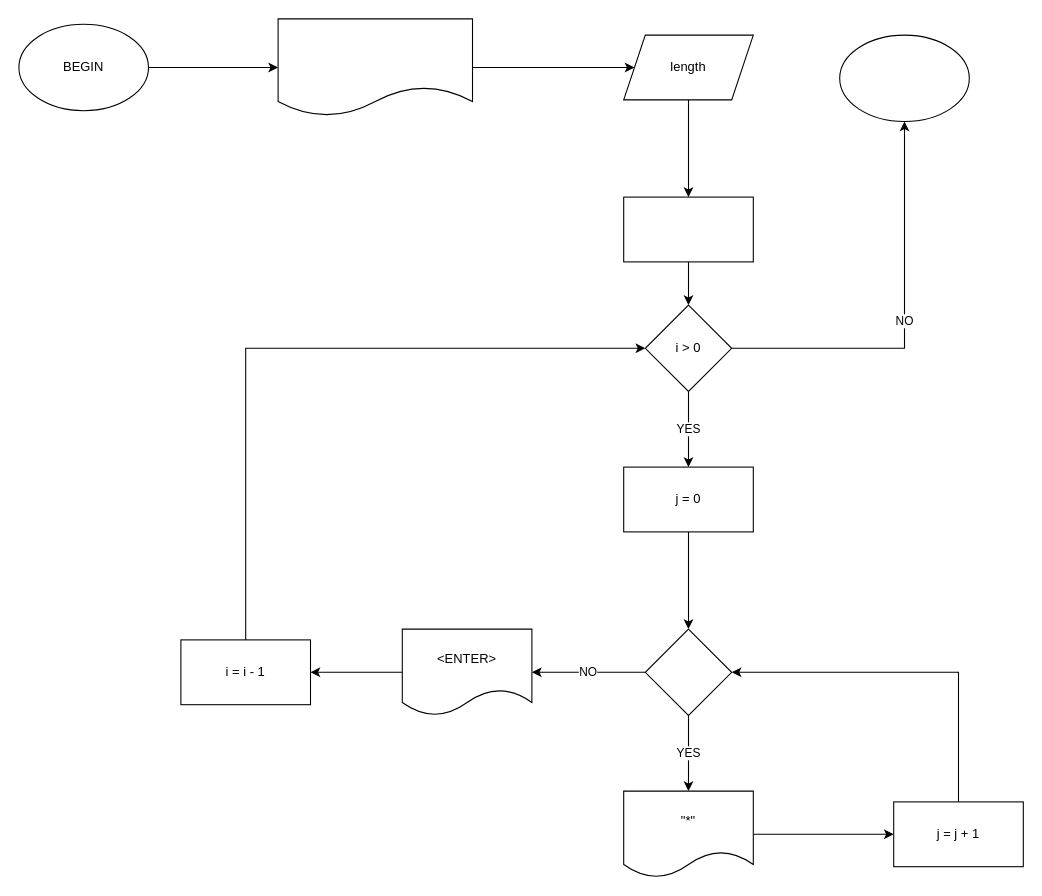
Image size: 1042x896. Some labels were removed from this diagram. Each missing label, with the centre of its shape:
"Please enter the length: ": (375,67)
END: (904,78)
i = length: (688,229)
j < i: (688,672)
